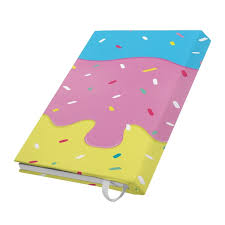book: (13, 28, 211, 197)
